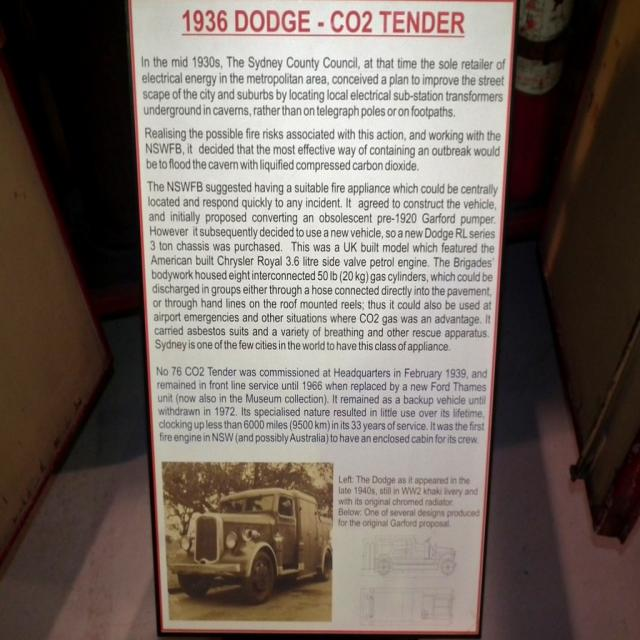car: (144, 459, 339, 620)
